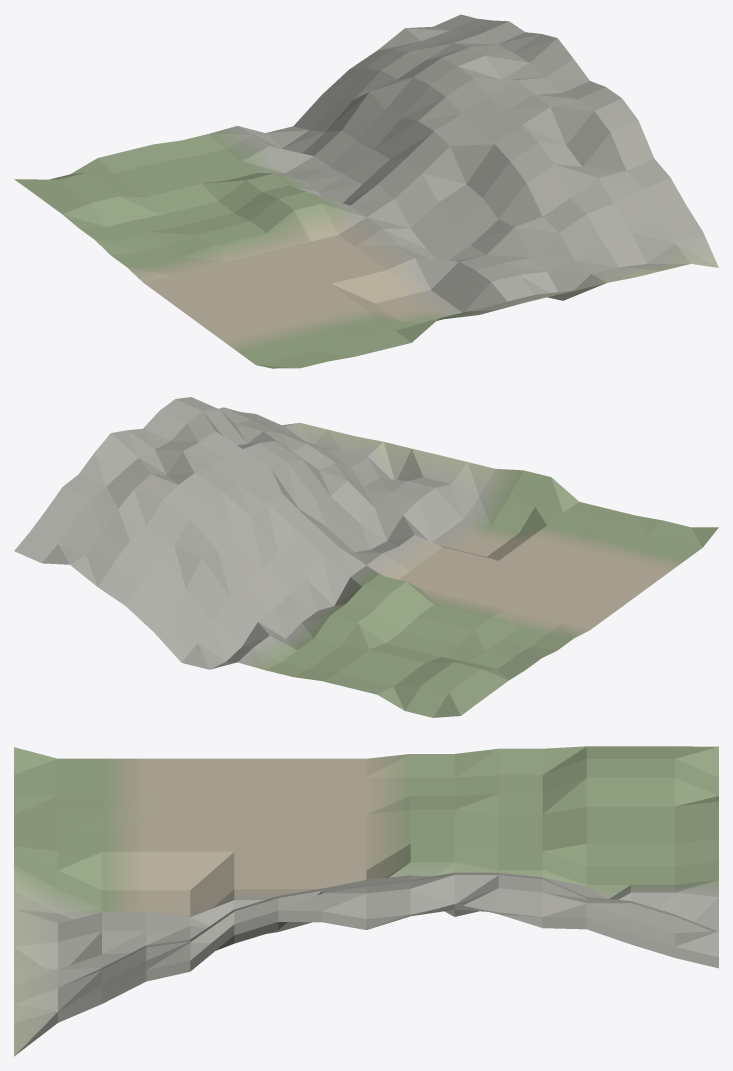
The picture shows the model from 3 angles, top to bottom: view 1: azimuth 30°, elevation 25°; view 2: azimuth 150°, elevation 25°; view 3: azimuth 270°, elevation 25°; orthographic projection. The views are drawn at different scales.
Bounding box in the file's own units: 32 × 8.64 × 32.
